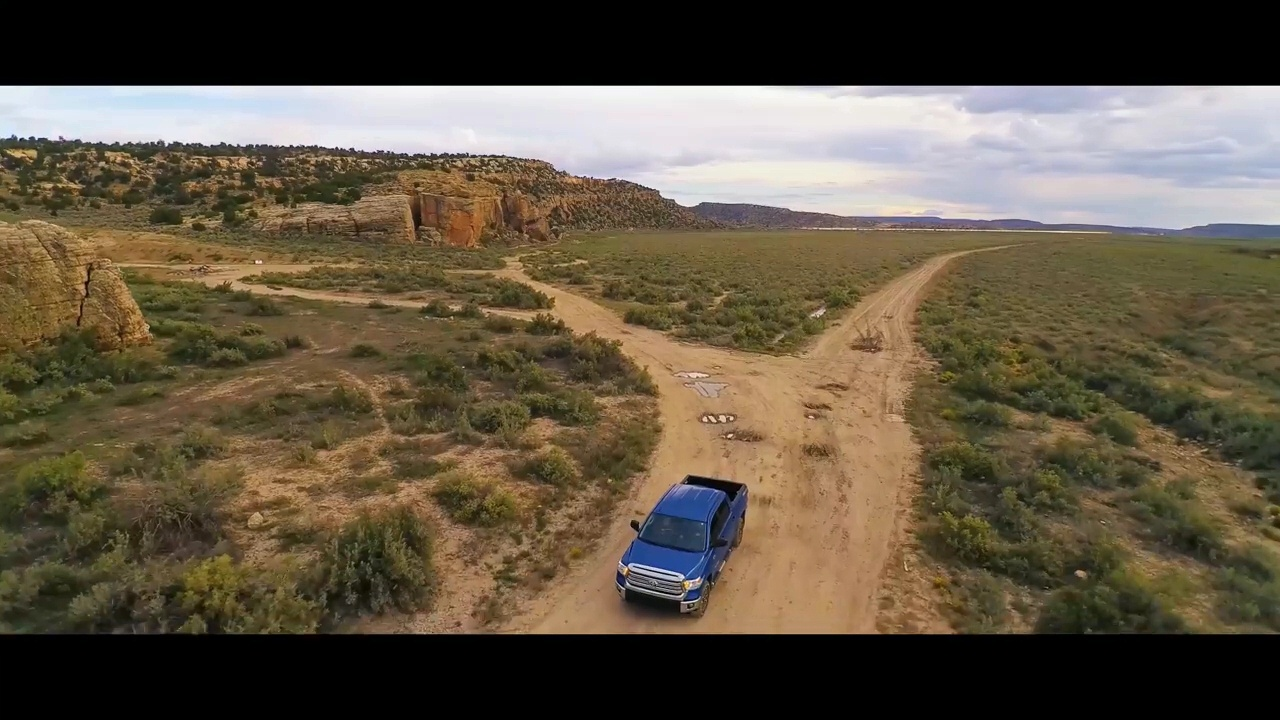kamyonet: (614, 470, 750, 620)
